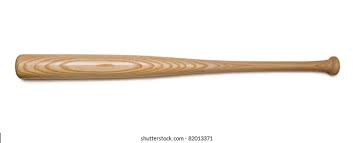bat: (13, 53, 341, 82)
